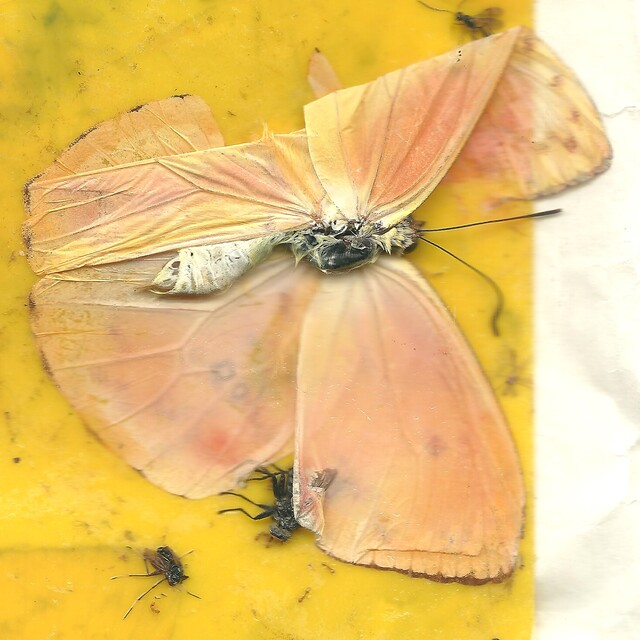Brachycera: (219, 459, 340, 546), (112, 544, 190, 616)
Lepidoptera: (24, 24, 616, 587)
